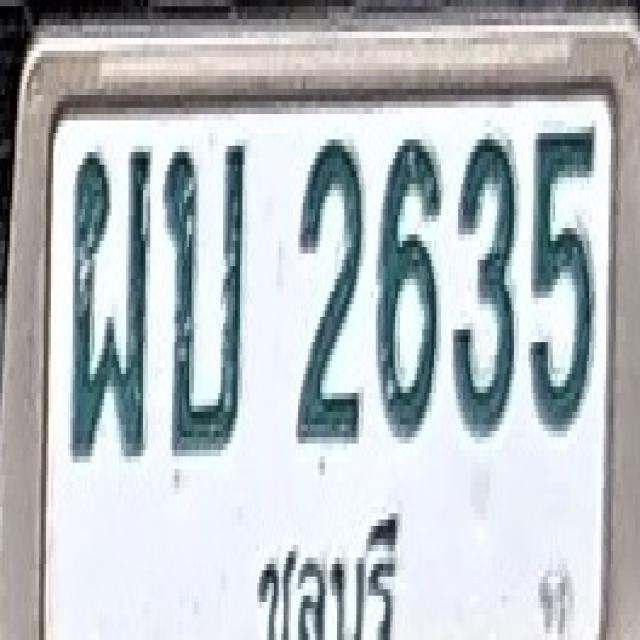2: (296, 133, 364, 444)
3: (451, 133, 516, 437)
5: (530, 124, 595, 434)
6: (376, 133, 441, 437)
A26: (162, 140, 248, 456)
A28: (68, 143, 150, 460)
CBI: (255, 500, 403, 640)
